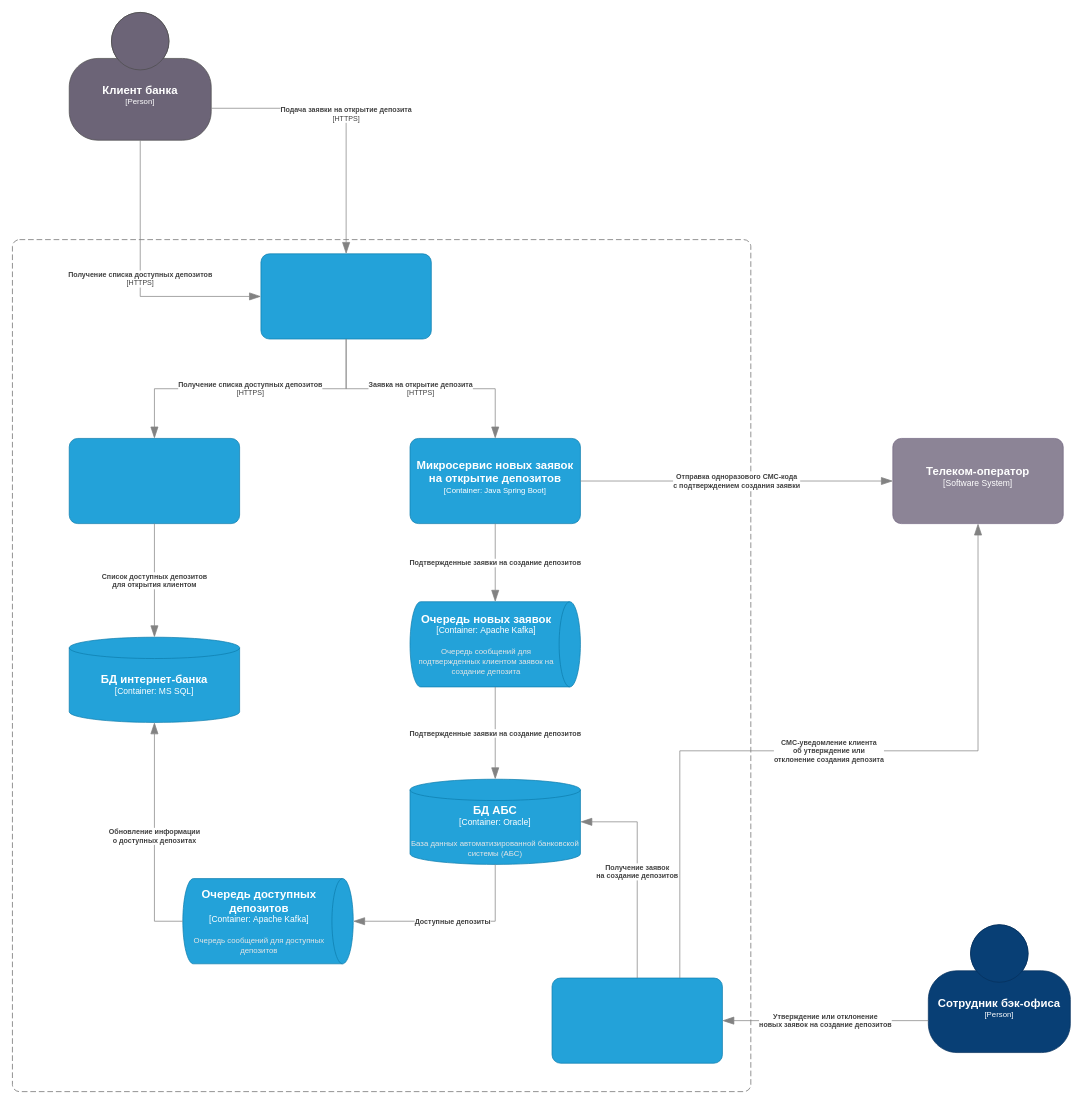
This 1083x1104 diagram has some shape labels left out. The shapes that lost their labels are listed below. From the top down, each one's box as (x1, y1, x2, y2) in pixels, then its label:
(260, 253, 431, 339): Балансировщик нагрузки [Container: nginx]
(69, 438, 240, 524): Интернет-банк [Container: ASP.NET MVC 4.5 на основе .NET Framework 4.5]
(12, 239, 751, 1092): Банк "Открытие" [Software System]
(551, 977, 722, 1063): АБС [Container: Delphi] Автоматизированная банковская система (АБС)
